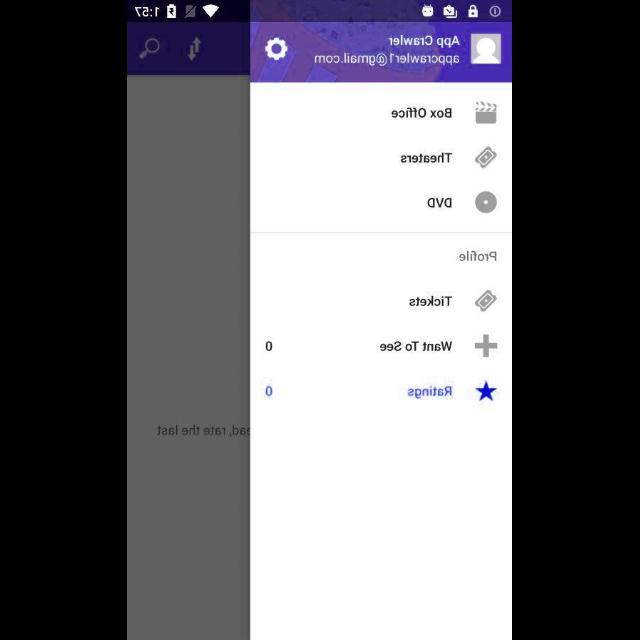icon: (472, 35, 502, 65), (474, 334, 498, 358), (474, 147, 498, 169), (266, 38, 288, 62), (475, 290, 497, 312), (476, 380, 498, 402)
image: (475, 102, 497, 125), (474, 196, 500, 208)
panel: (252, 22, 512, 640)
text: (314, 54, 460, 66), (389, 35, 461, 49), (381, 341, 453, 351), (392, 107, 452, 119), (401, 152, 453, 164), (408, 385, 452, 399), (410, 295, 452, 307), (459, 250, 496, 262), (428, 198, 452, 208), (266, 341, 272, 352), (266, 386, 272, 396)
uppertaskbar: (128, 1, 512, 23)
